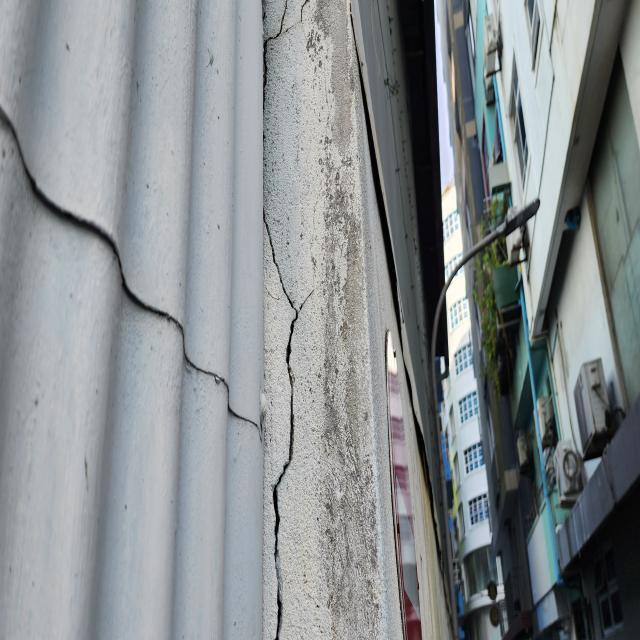SurfaceCrack: (1, 1, 251, 461), (480, 0, 640, 640)
